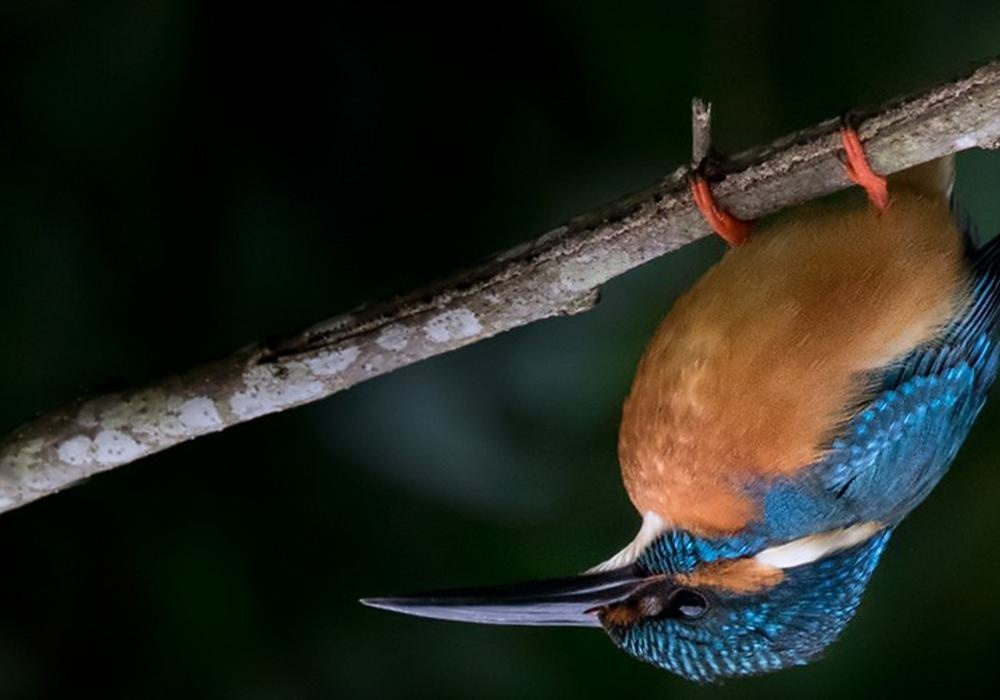kingfisher: (356, 91, 979, 656)
